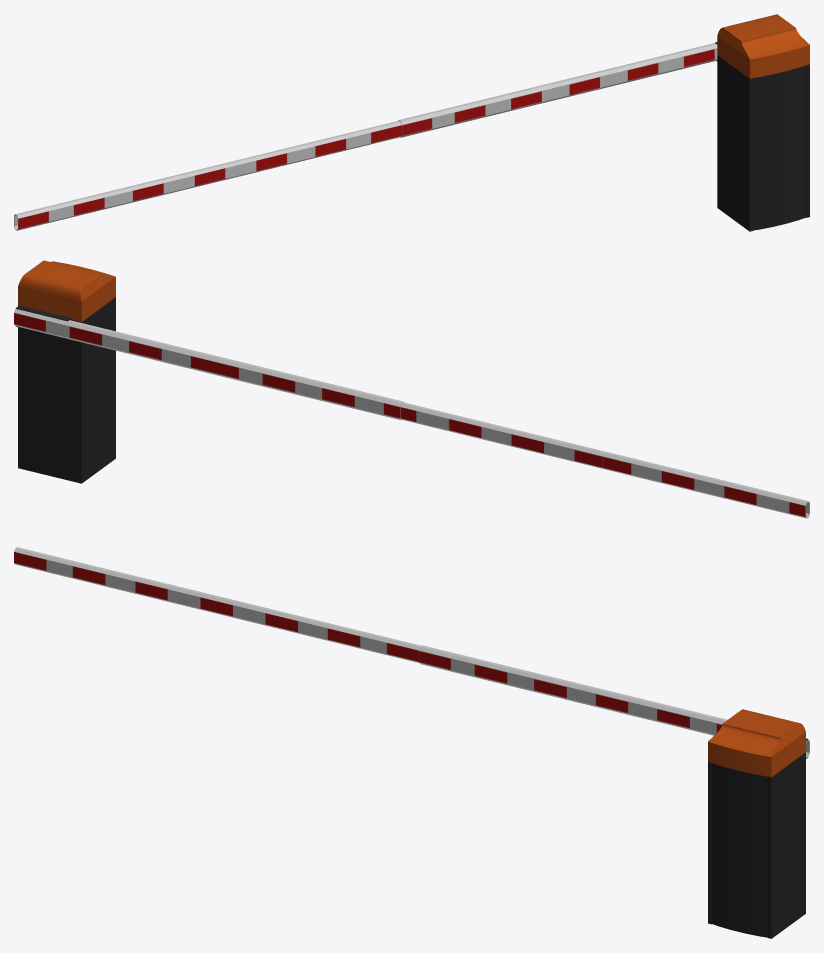
File: SM05_Safety_ParkingBarrier_01.fbx
3 renders of one model, top to bottom at view 1: azimuth 30°, elevation 25°; view 2: azimuth 150°, elevation 25°; view 3: azimuth 330°, elevation 25°, orthographic. The views are drawn at different scales.
Visible parts, largest first — view 1: SM05_Safety_ParkingBarrier_01, PlanSM05_Safety_ParkingBarrier_01_Bar_Ex, SM05_Safety_ParkingBarrier_01_Bar; view 2: SM05_Safety_ParkingBarrier_01, SM05_Safety_ParkingBarrier_01_Bar, PlanSM05_Safety_ParkingBarrier_01_Bar_Ex; view 3: SM05_Safety_ParkingBarrier_01, PlanSM05_Safety_ParkingBarrier_01_Bar_Ex, SM05_Safety_ParkingBarrier_01_Bar.
Boxes of the visible parts, x1,y1,x2,y2 form: SM05_Safety_ParkingBarrier_01: (717,14,809,231); PlanSM05_Safety_ParkingBarrier_01_Bar_Ex: (14,120,401,230); SM05_Safety_ParkingBarrier_01_Bar: (398,42,717,137); SM05_Safety_ParkingBarrier_01: (18,260,115,483); SM05_Safety_ParkingBarrier_01_Bar: (14,305,403,420); PlanSM05_Safety_ParkingBarrier_01_Bar_Ex: (400,402,809,518); SM05_Safety_ParkingBarrier_01: (708,709,805,938); PlanSM05_Safety_ParkingBarrier_01_Bar_Ex: (14,547,421,662); SM05_Safety_ParkingBarrier_01_Bar: (419,645,809,758).
Size of the model in its own units: 4.13 by 0.95 by 0.4095.
